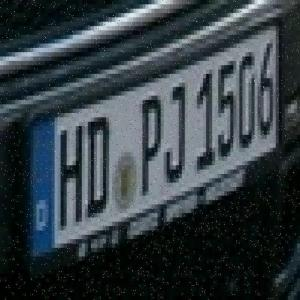Plate: (19, 13, 288, 284)
